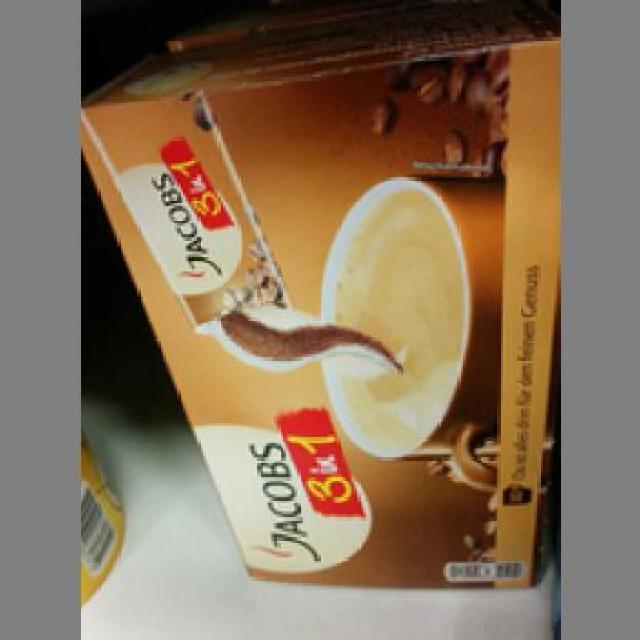Coffee: (77, 9, 554, 588)
